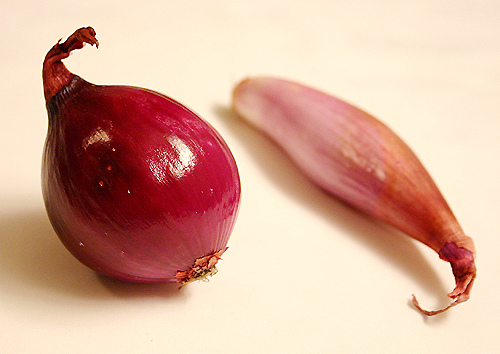onion: (231, 73, 480, 318), (39, 26, 244, 286)
